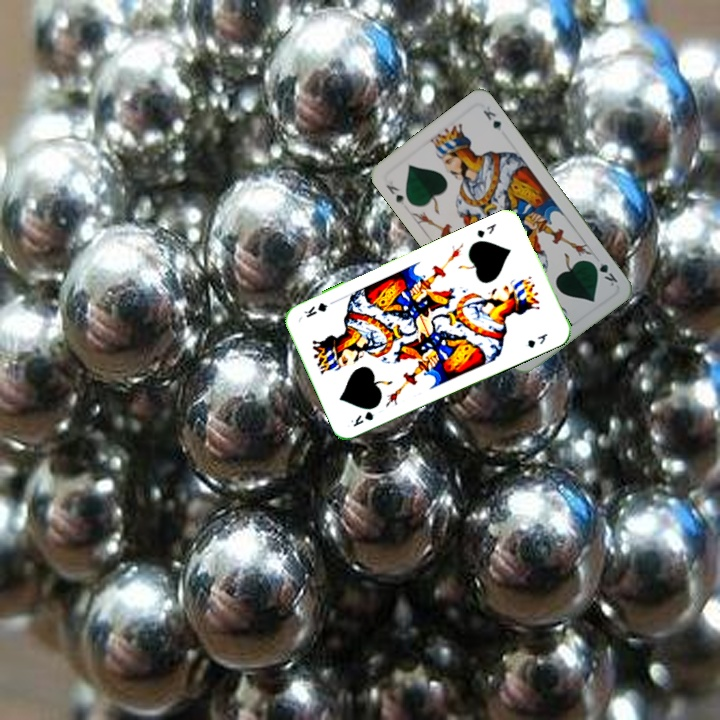GK: (587, 256, 620, 289), (382, 177, 408, 208), (346, 407, 376, 429), (473, 219, 499, 240)
